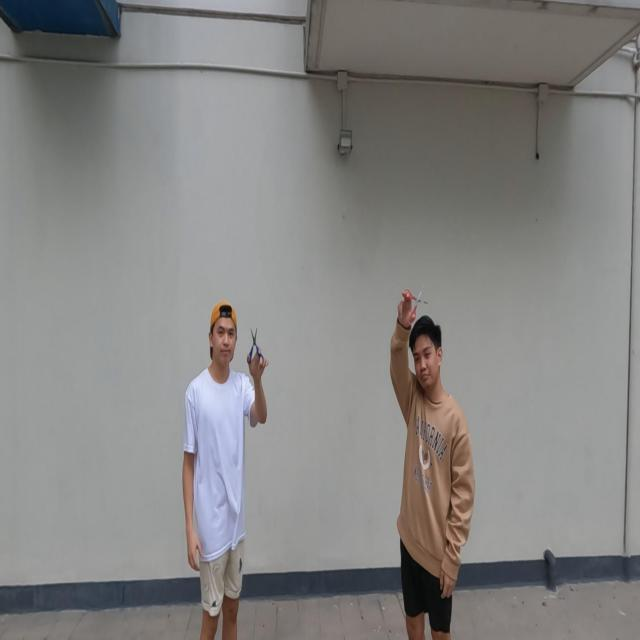scissor: (402, 281, 431, 322), (247, 323, 266, 368)
